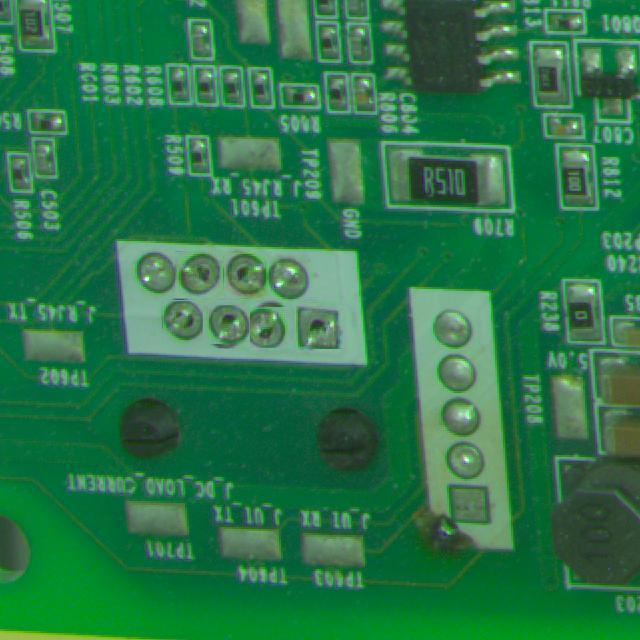lack_of_part: (293, 301, 342, 350), (175, 251, 223, 298), (247, 304, 293, 351), (204, 302, 248, 347), (224, 253, 267, 298), (162, 300, 203, 343)
